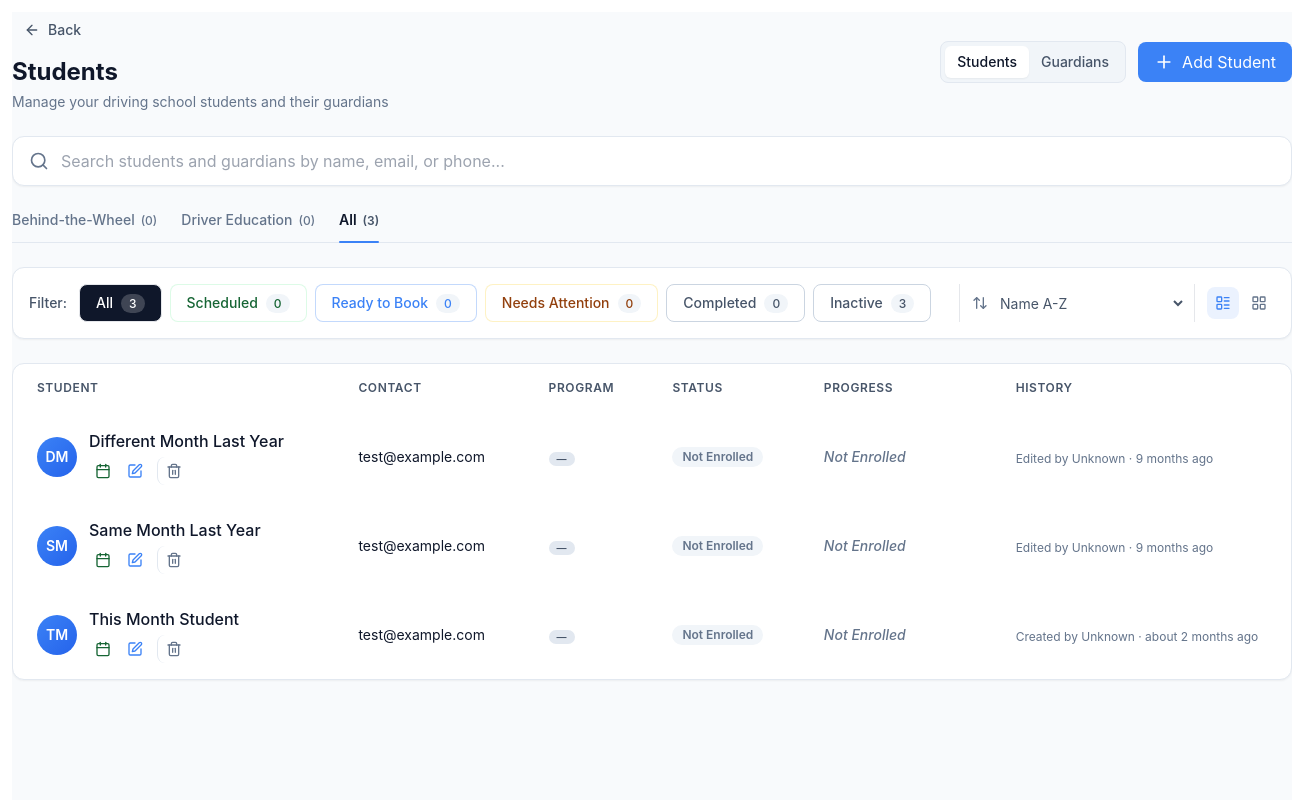
it: Students - "New This Month" trend, hostile clock (tenant America/Los_Angeles, browser Pacific/Kiritimati) › resolves the "vs last year" comparison from tenant time too
Expected: the text "This Month Student" is shown, [89, 607, 239, 631]
Click the tab "Behind-the-Wheel(0)". click: (85, 226)
box: [12, 210, 157, 242]
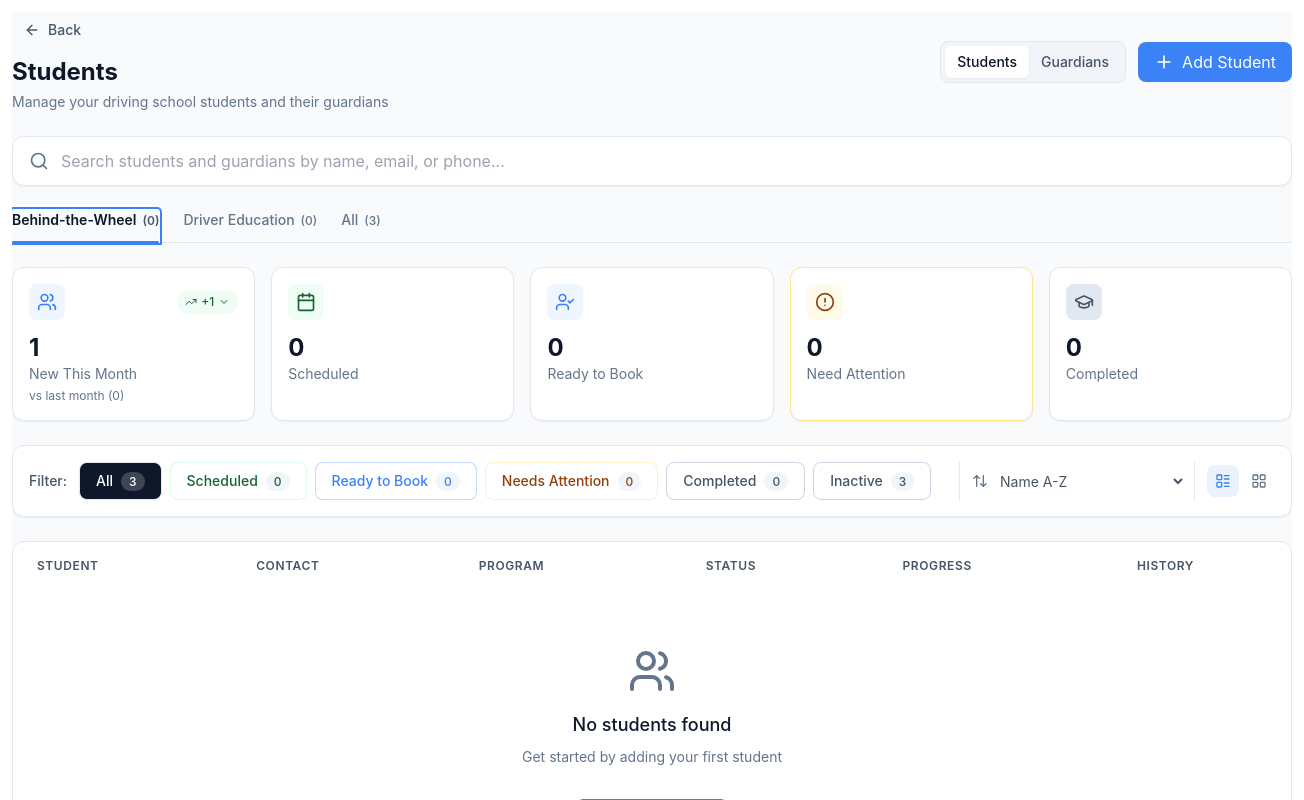
Click the button titled "Click to toggle comparison". click: (208, 302)
box: [177, 290, 238, 314]
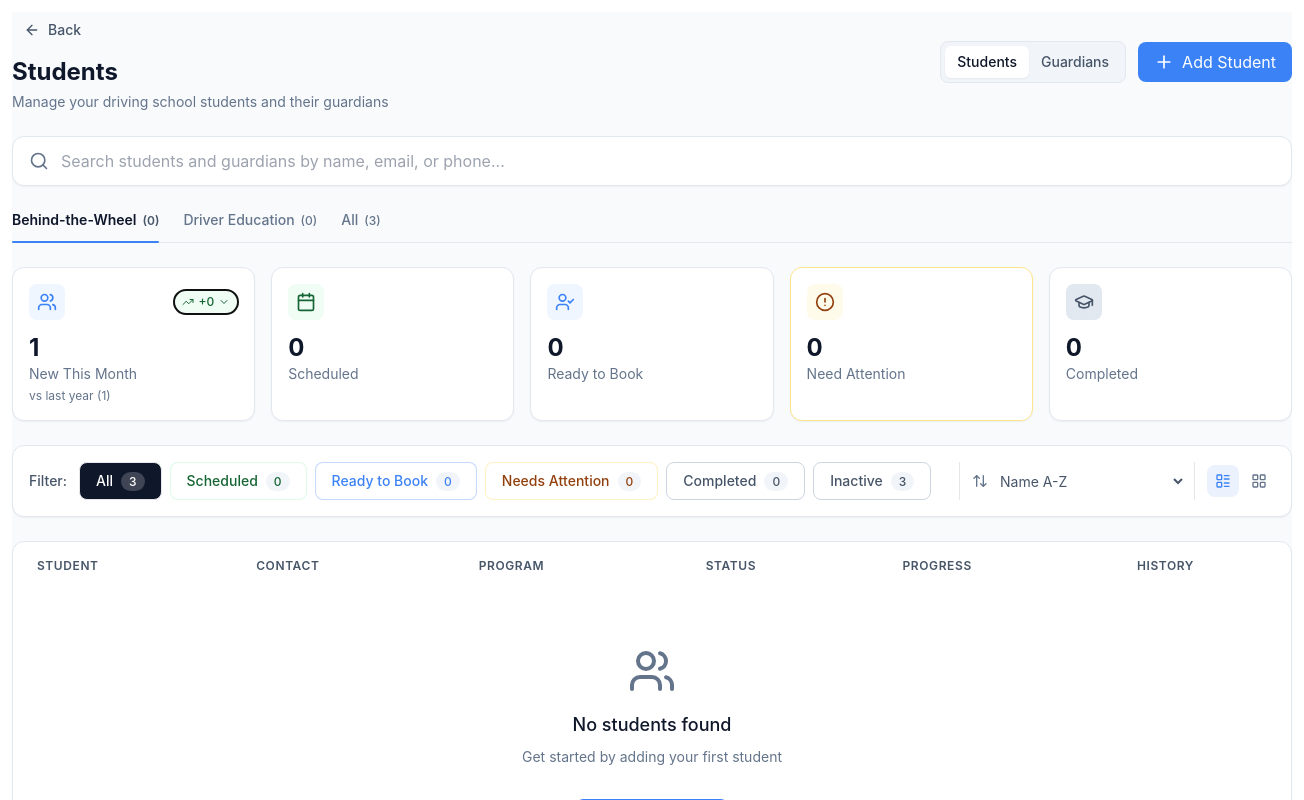
Expected: the button titled "Click to toggle comparison" reads "+0", [174, 290, 238, 314]
